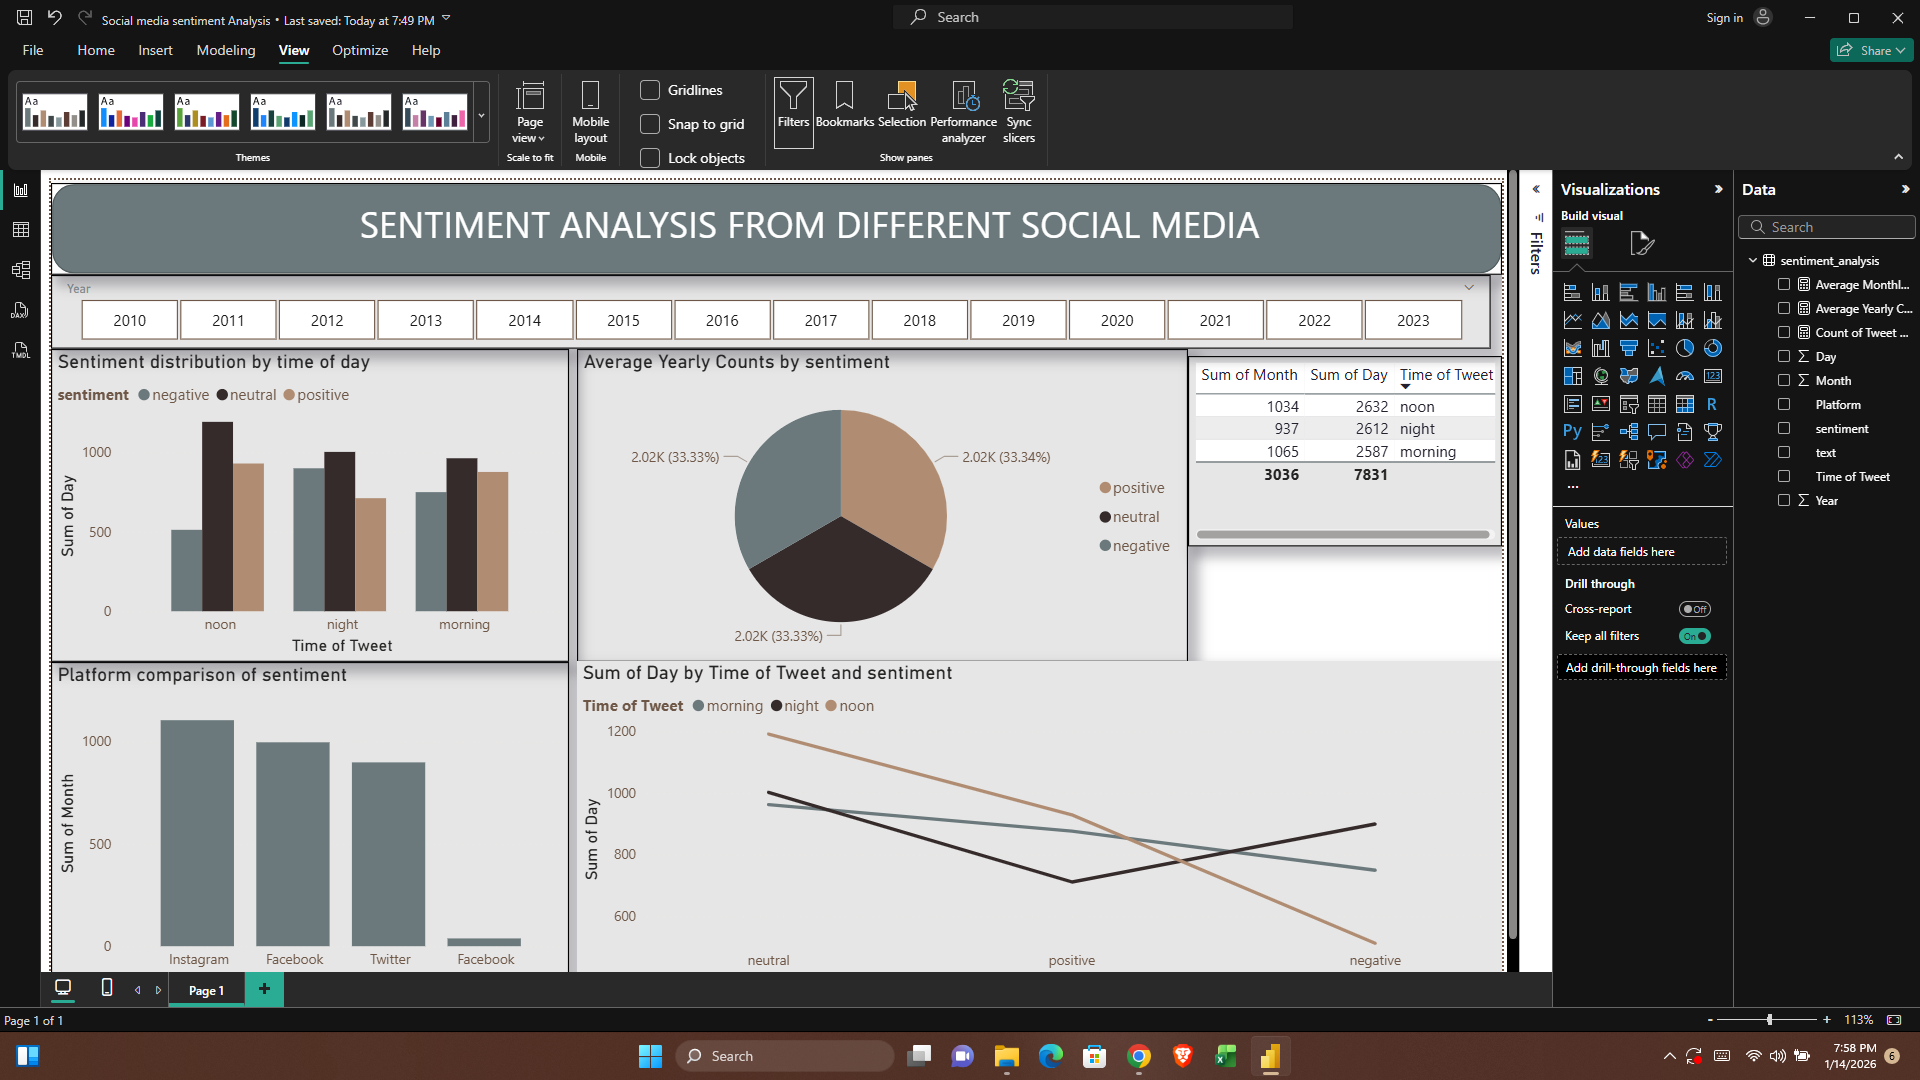

What the dashboard file says about the page in this screenshot:
{"tool":"powerbi","page":{"name":"Page 1","canvas":[1280,720],"ordinal":0},"visuals":[{"type":"pieChart","fields":{"Category":["sentiment_analysis.sentiment","sentiment_analysis.Platform"],"Y":["sentiment_analysis.Average Monthly Sentiment"]},"box":[464.3,148.7,538.6,275.7],"z":0},{"type":"tableEx","fields":{"Values":["Sum(sentiment_analysis.Month)","Sum(sentiment_analysis.Day)","sentiment_analysis.Time of Tweet"]},"box":[1002.9,155.1,277.5,167.8],"z":1000},{"type":"clusteredColumnChart","title":"Platform comparison of sentiment","fields":{"Y":["Sum(sentiment_analysis.Month)"],"Category":["sentiment_analysis.Platform"]},"box":[0,425.3,457,294.7],"z":2000},{"type":"clusteredColumnChart","title":"Sentiment distribution by time of day","fields":{"Y":["Sum(sentiment_analysis.Day)"],"Category":["sentiment_analysis.Time of Tweet"],"Series":["sentiment_analysis.sentiment"]},"box":[0,148.7,457,275.7],"z":3000},{"type":"lineChart","title":"Sum of Day by Time of Tweet and sentiment","fields":{"Y":["Sum(sentiment_analysis.Day)"],"Category":["sentiment_analysis.sentiment"],"Series":["sentiment_analysis.Time of Tweet"]},"box":[464.3,424.4,816.1,295.6],"z":4000},{"type":"slicer","fields":{"Values":["sentiment_analysis.Year"]},"box":[0,83.4,1269.5,65.3],"z":5000},{"type":"shape","box":[0,2.7,1280.4,80.7],"z":6000},{"type":"textbox","box":[267.5,11.8,916.8,81.6],"z":7000}]}

Visuals, with their boxes on the page's 1280x720 design canvas (x1, y1, x2, y2). These are canvas units, not pixel positions in the 1920x1080 screenshot, which may show the page scaled, cropped or inside an application window:
pieChart - sentiment_analysis.sentiment x sentiment_analysis.Platform: <bbox>464, 149, 1003, 424</bbox>
tableEx - Sum(sentiment_analysis.Month) x Sum(sentiment_analysis.Day): <bbox>1003, 155, 1280, 323</bbox>
"Platform comparison of sentiment" clusteredColumnChart: <bbox>0, 425, 457, 720</bbox>
"Sentiment distribution by time of day" clusteredColumnChart: <bbox>0, 149, 457, 424</bbox>
"Sum of Day by Time of Tweet and sentiment" lineChart: <bbox>464, 424, 1280, 720</bbox>
slicer - sentiment_analysis.Year: <bbox>0, 83, 1270, 149</bbox>
shape: <bbox>0, 3, 1280, 83</bbox>
textbox: <bbox>268, 12, 1184, 93</bbox>
